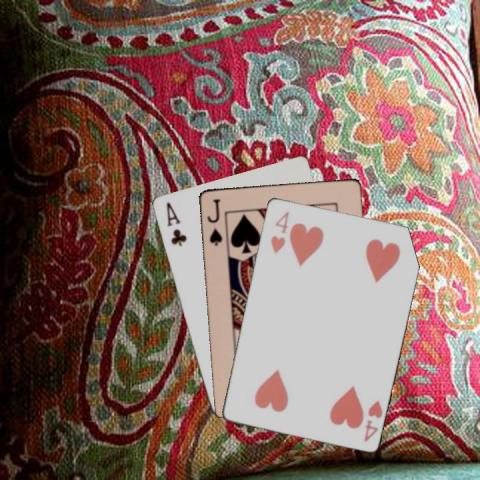4h: (267, 208, 290, 255), (361, 397, 384, 443)
Ac: (163, 199, 187, 248)
Js: (204, 196, 223, 248)
